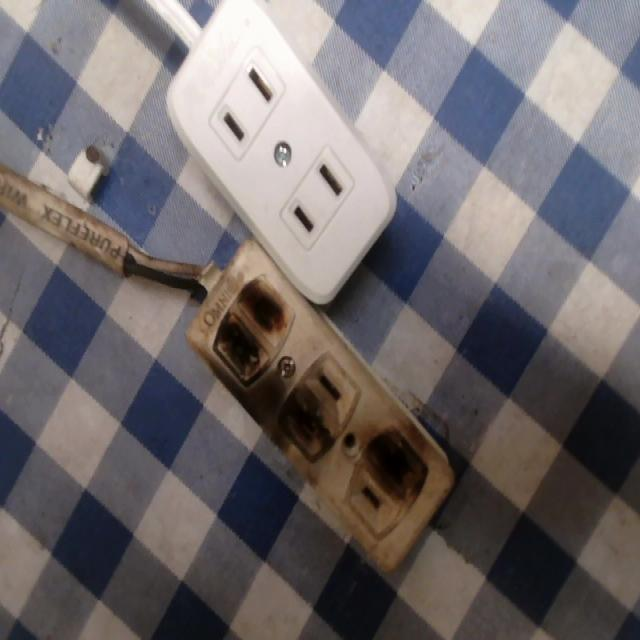-: (212, 268, 295, 392), (367, 414, 430, 510), (276, 392, 331, 468)
